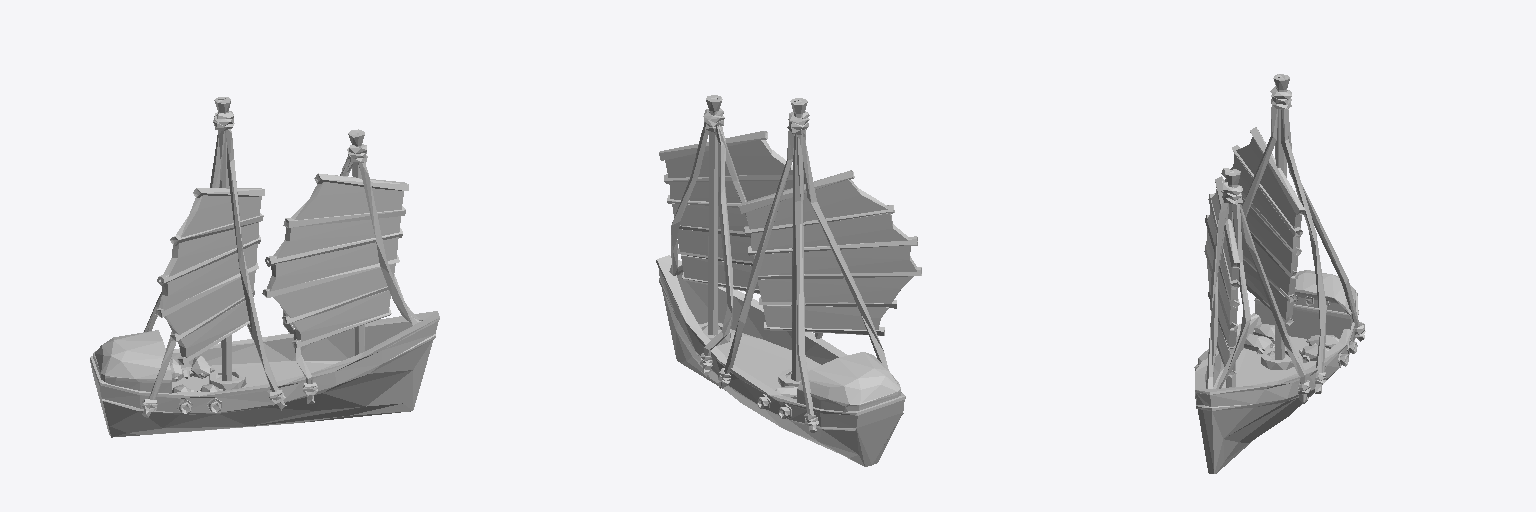
Rendered from teste.obj.
3 views of the same model, side by side, from view 1: azimuth 30°, elevation 25°; view 2: azimuth 150°, elevation 25°; view 3: azimuth 270°, elevation 25° (orthographic).
Parts seen in each view (by area): view 1: 19889_Junk__ship_; view 2: 19889_Junk__ship_; view 3: 19889_Junk__ship_.
Boxes of the visible parts, box(x1,y1,x2,y2) form: 19889_Junk__ship_: box(90, 97, 439, 437); 19889_Junk__ship_: box(656, 95, 921, 466); 19889_Junk__ship_: box(1194, 74, 1365, 473).
Bounding box in the file's own units: 8.02 × 8.5 × 4.06.